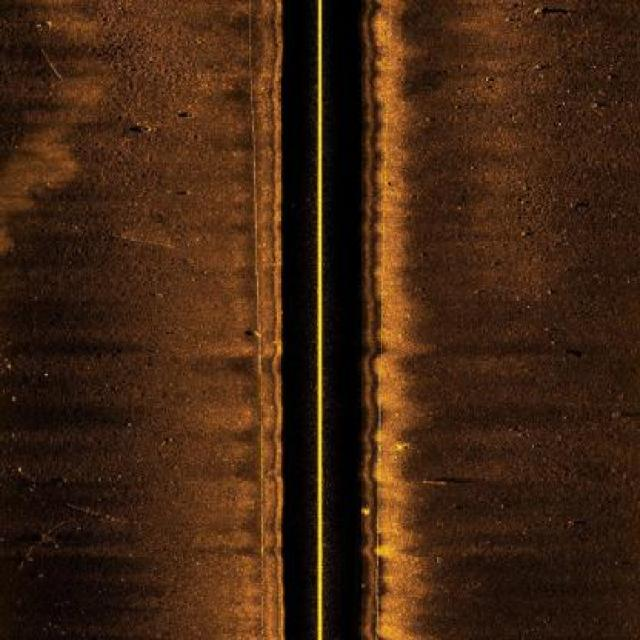mine: (421, 474, 479, 492)
